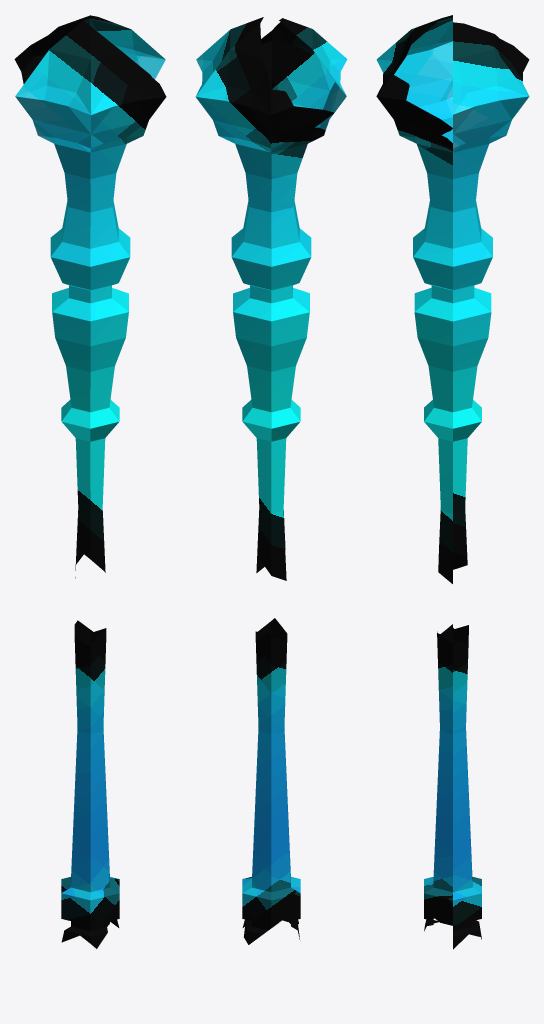
The model's file is girl03_Stick.FBX.
3 views of the same model, side by side, from view 1: azimuth 30°, elevation 25°; view 2: azimuth 150°, elevation 25°; view 3: azimuth 270°, elevation 25° (orthographic).
Visible parts, largest first — view 1: objCl_Wand_A06_A; view 2: objCl_Wand_A06_A; view 3: objCl_Wand_A06_A.
Boxes of the visible parts, x1=… form: objCl_Wand_A06_A: x1=14, y1=15, x2=166, y2=948; objCl_Wand_A06_A: x1=195, y1=17, x2=347, y2=944; objCl_Wand_A06_A: x1=376, y1=15, x2=529, y2=949.
Bounding box in the file's own units: 11.19 × 70.62 × 9.85.
